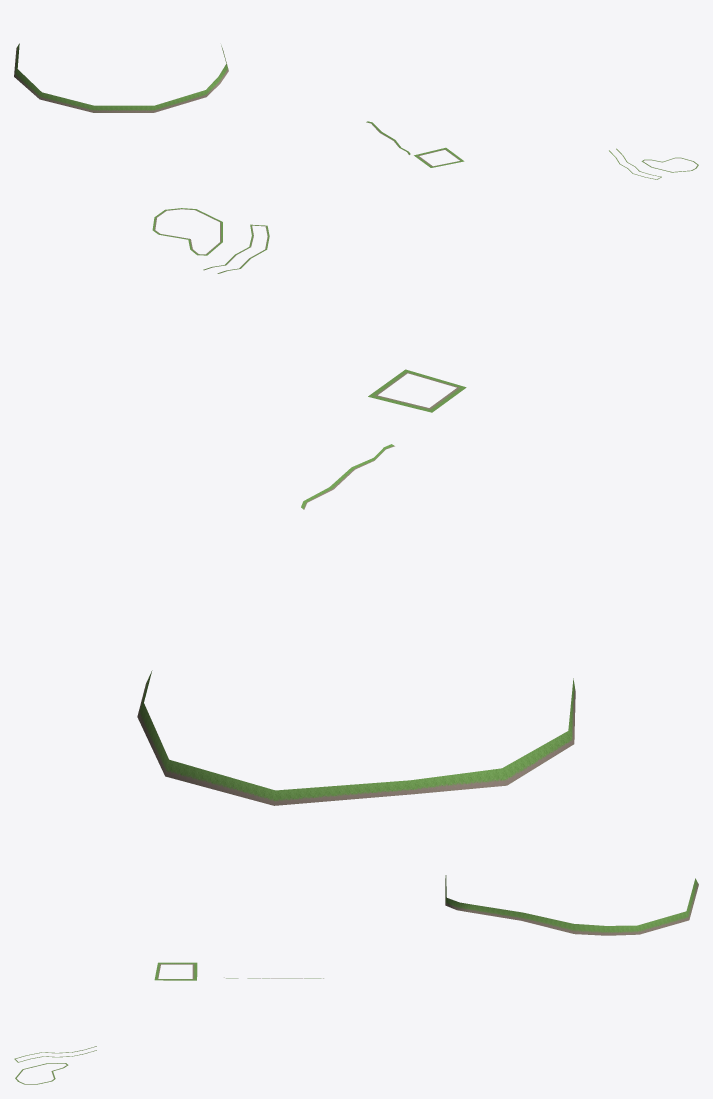
File: kd_stage_1364a3_11_8.glb
The picture shows the model from 3 angles, top to bottom: view 1: azimuth 30°, elevation 25°; view 2: azimuth 150°, elevation 25°; view 3: azimuth 270°, elevation 25°; orthographic projection. The views are drawn at different scales.
Visible parts, largest first — view 1: kd_stage_1364a3_11_8; view 2: kd_stage_1364a3_11_8; view 3: kd_stage_1364a3_11_8.
Boxes of the visible parts, <box> form: kd_stage_1364a3_11_8: <box>14,43,698,179</box>; kd_stage_1364a3_11_8: <box>137,208,575,805</box>; kd_stage_1364a3_11_8: <box>14,875,698,1084</box>.
Size of the model in its own units: 151 by 9.93 by 182.
1 material, 1 textured.
